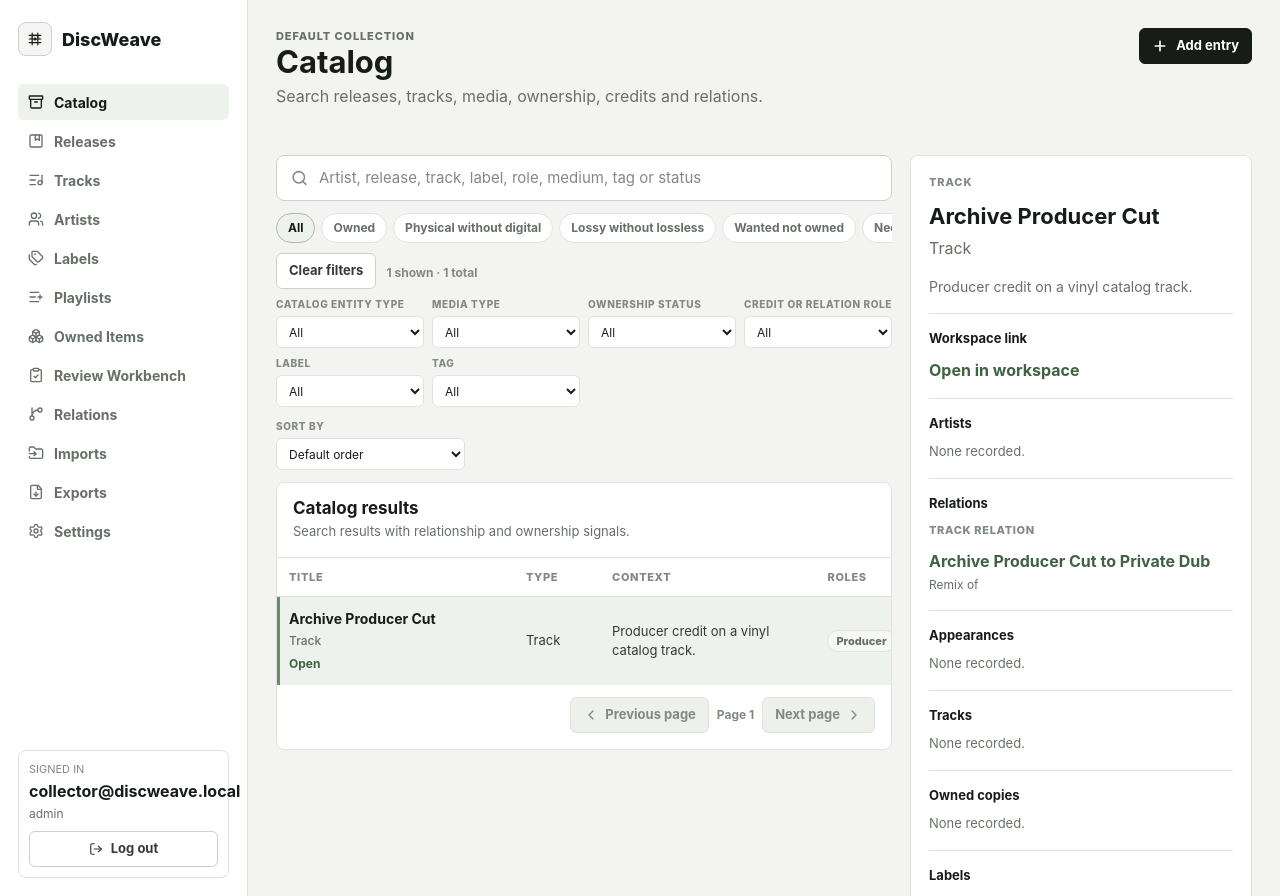
Test: App search v1 UI › opens relation graph links into the editable relations workspace
Click the link "Archive Producer Cut to Private Dub".
click(1081, 561)  # box [929,549,1233,573]
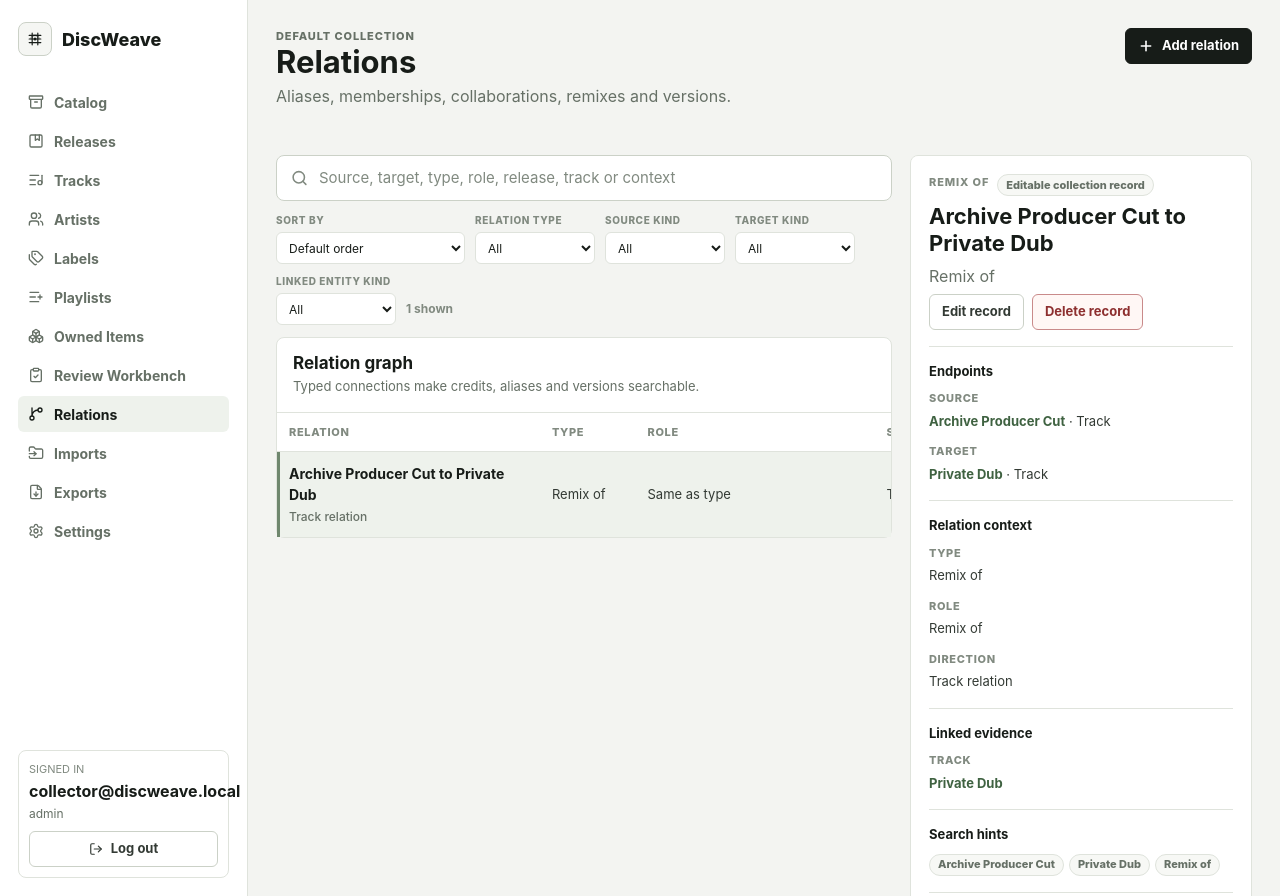
Now the heading "Archive Producer Cut to Private Dub" is shown, box [929,203,1186,256]
Now the button "Edit record" is shown, box [929,294,1024,330]
